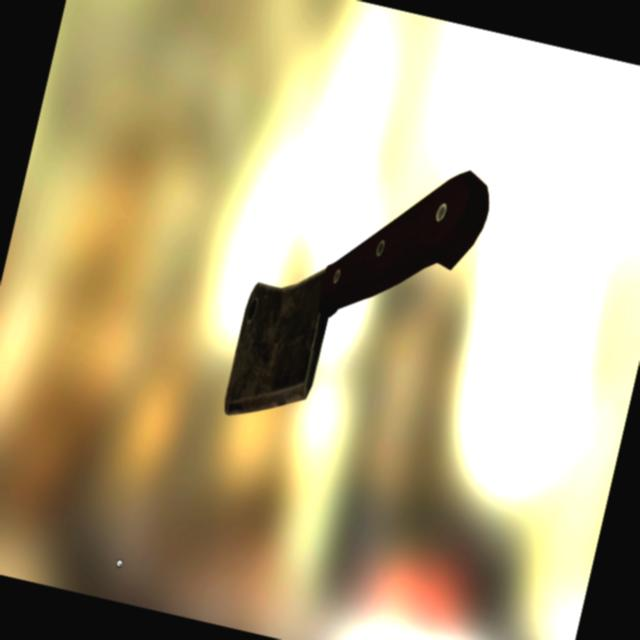cleaver: (211, 110, 511, 477)
